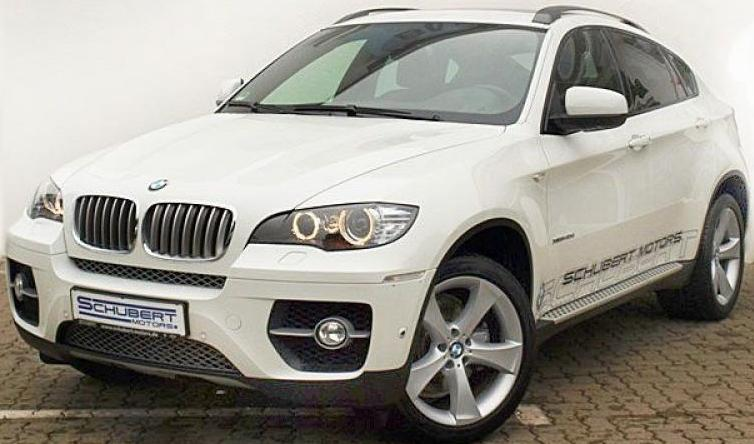front_view: (9, 170, 430, 404)
headlight: (243, 190, 424, 261)
side_glass: (542, 22, 700, 139)
